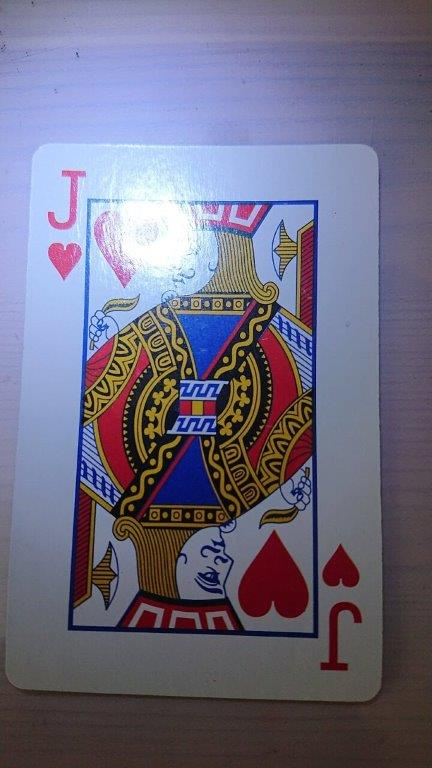JH: (4, 140, 384, 704)
